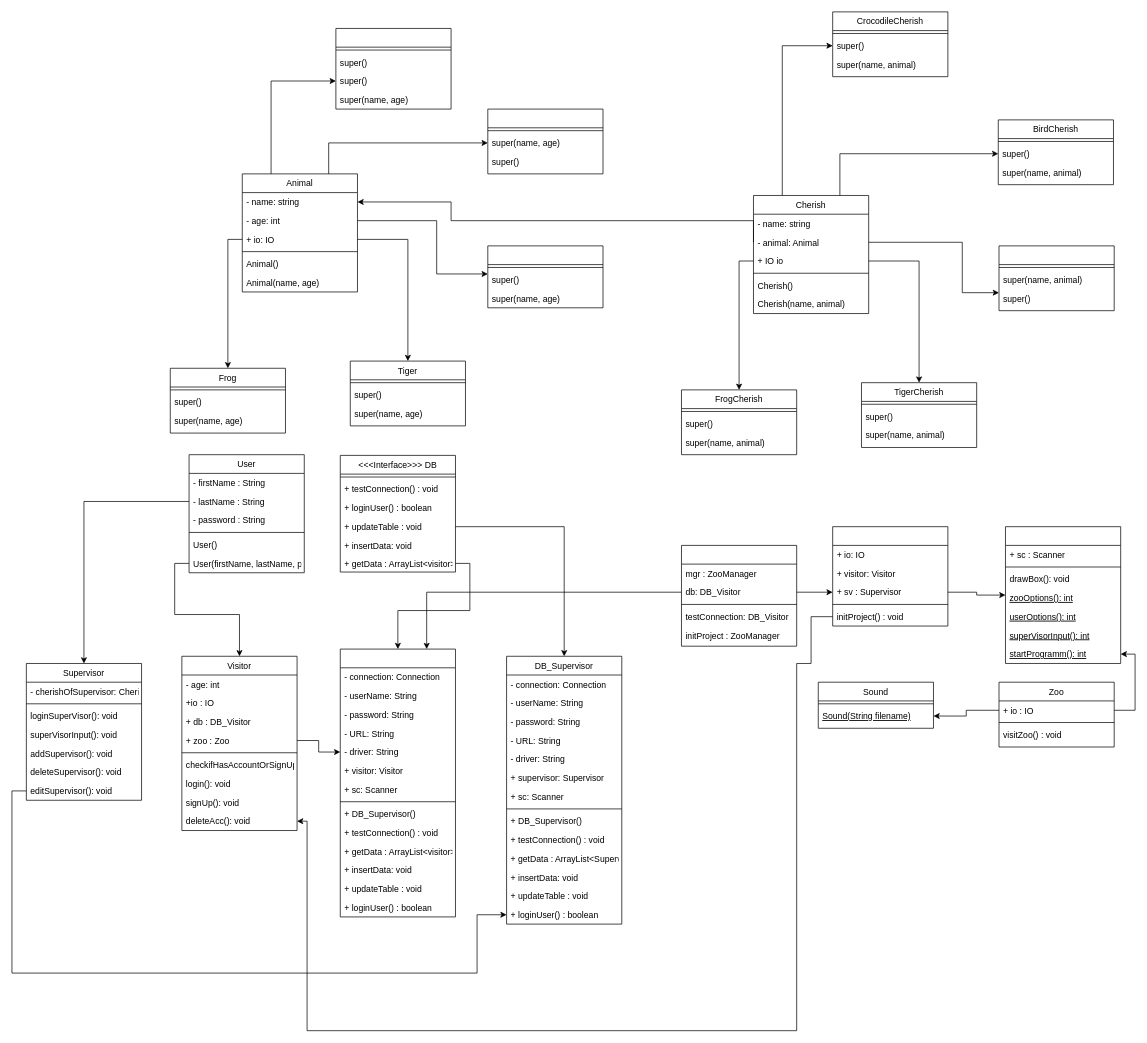
Some shapes in this 1147 by 1043 pixel diagram are drawn without their labels. The shapes that lost their labels are listed below. From the top down, each one's box as (x1, y1, x2, y2) in pixels, then its label:
(335, 28, 451, 109): Crocodile
(487, 108, 603, 174): Bird
(487, 245, 603, 308): Shark
(998, 245, 1114, 311): SharkCherish
(681, 545, 797, 646): Main
(832, 526, 948, 626): ZooManager
(1005, 526, 1121, 663): IO
(340, 648, 455, 917): DB_Visitor
